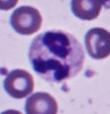N: (29, 30, 84, 83)
